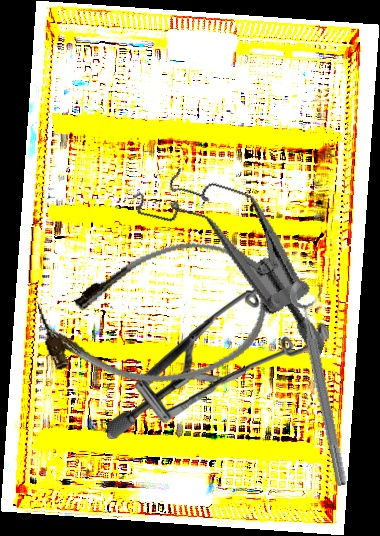Cannula: (31, 228, 277, 405)
Fixation Ring: (287, 276, 364, 488)
Speculum: (102, 153, 365, 360), (104, 262, 331, 439)
